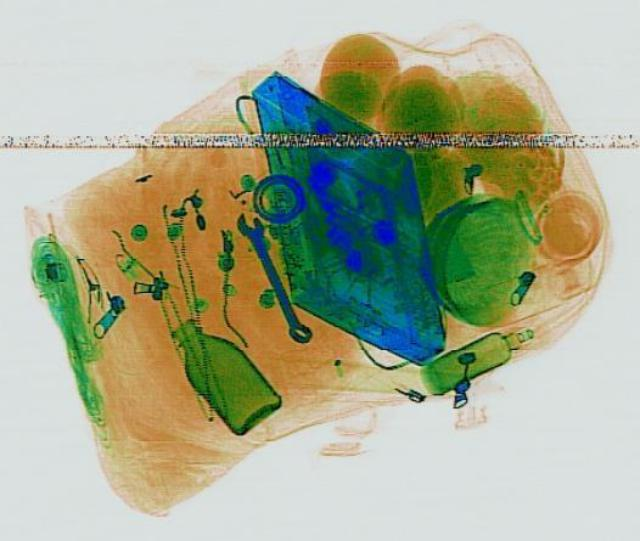Wrench: (231, 208, 313, 343)
